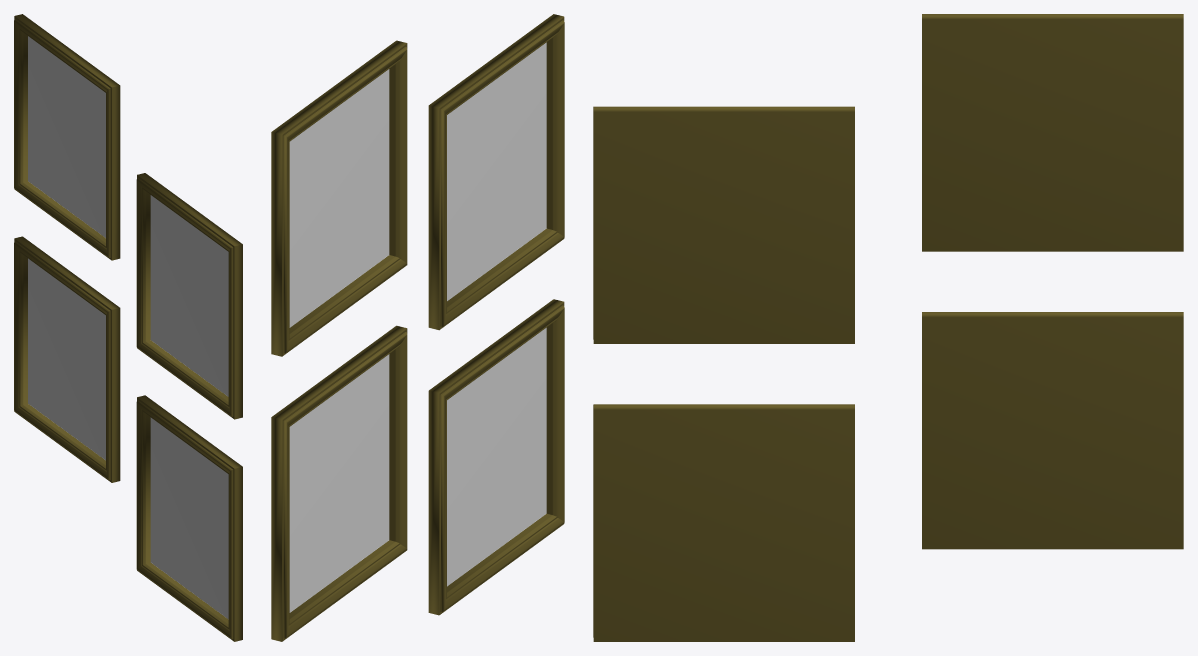
File: PhotoFrames.fbx
The picture shows the model from 3 angles, left to right: view 1: azimuth 30°, elevation 25°; view 2: azimuth 150°, elevation 25°; view 3: azimuth 270°, elevation 25°; orthographic projection. The views are drawn at different scales.
Parts seen in each view (by area): view 1: PhotoFrames; view 2: PhotoFrames; view 3: PhotoFrames.
Part boxes in pixels (bbox=[...]): PhotoFrames: bbox=[14, 14, 242, 641]; PhotoFrames: bbox=[271, 14, 564, 641]; PhotoFrames: bbox=[593, 14, 1183, 641].
Bounding box in the file's own units: 3.39 × 146 × 125.
